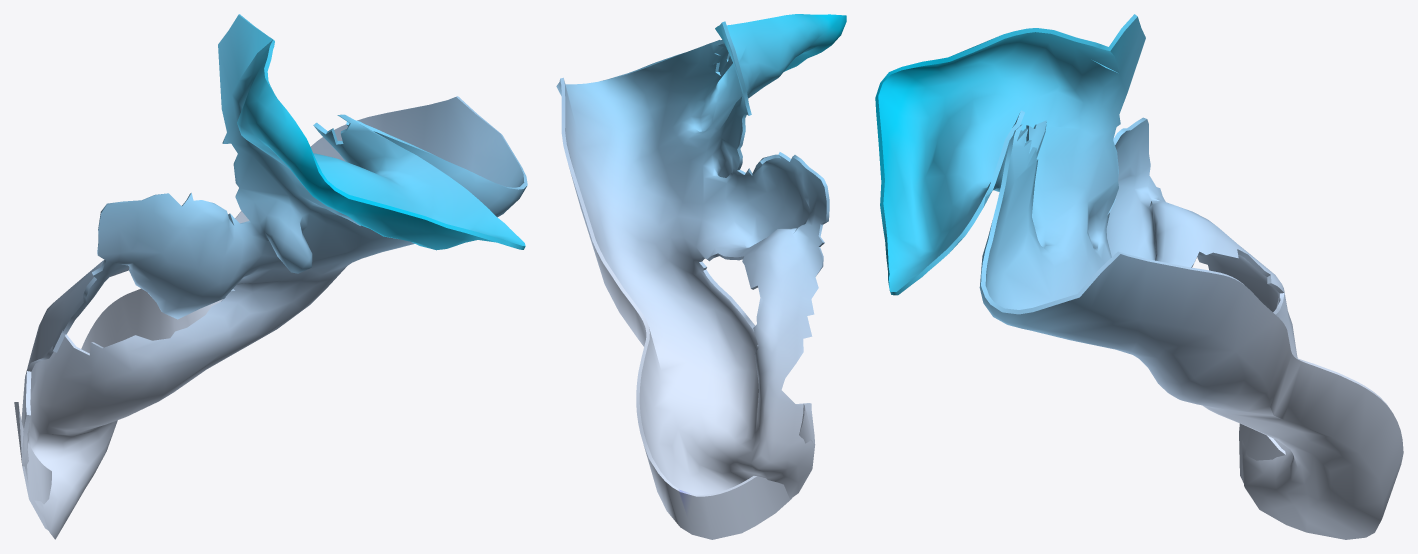
Rendered from s1_lh_underglow_head.fbx.
3 renders of one model, left to right at view 1: azimuth 30°, elevation 25°; view 2: azimuth 150°, elevation 25°; view 3: azimuth 270°, elevation 25°, orthographic. The views are drawn at different scales.
Visible parts, largest first — view 1: s1_lh_underglow_head; view 2: s1_lh_underglow_head; view 3: s1_lh_underglow_head.
Part boxes in pixels (left/top/right/bottom): s1_lh_underglow_head: left=14, top=14, right=527, bottom=539; s1_lh_underglow_head: left=556, top=14, right=846, bottom=539; s1_lh_underglow_head: left=875, top=14, right=1403, bottom=539.
Size of the model in its own units: 306 by 402 by 337.
